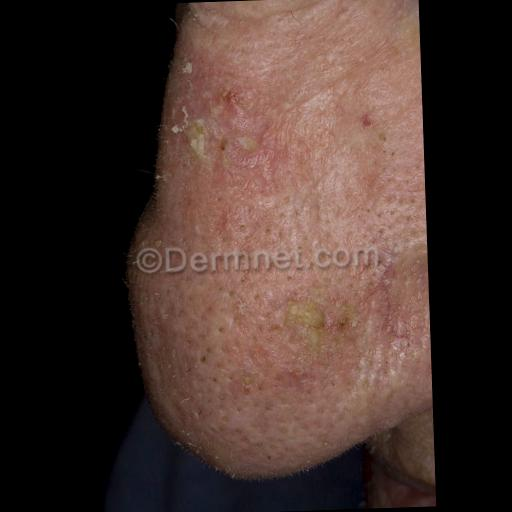Skin_Lesion: (284, 285, 352, 379), (174, 112, 212, 178), (264, 190, 292, 252), (176, 344, 212, 380), (230, 126, 262, 162), (239, 369, 266, 409), (216, 320, 238, 364), (219, 80, 240, 120), (356, 109, 374, 135)
